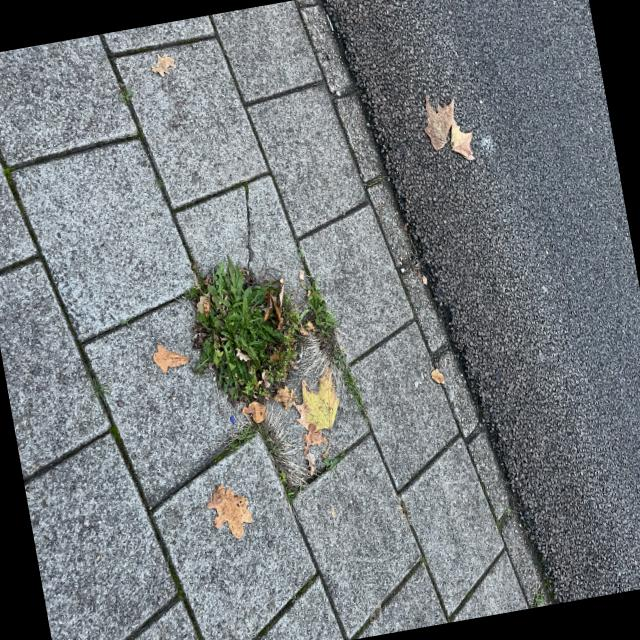leaves: (449, 382, 513, 463), (534, 510, 604, 584), (238, 188, 282, 253), (455, 594, 473, 620)
pavement: (107, 0, 611, 210), (290, 132, 640, 382), (160, 288, 346, 558), (539, 331, 640, 472)
weed: (374, 441, 484, 576), (381, 363, 493, 429), (417, 346, 489, 429)
weedling: (83, 504, 106, 525)
